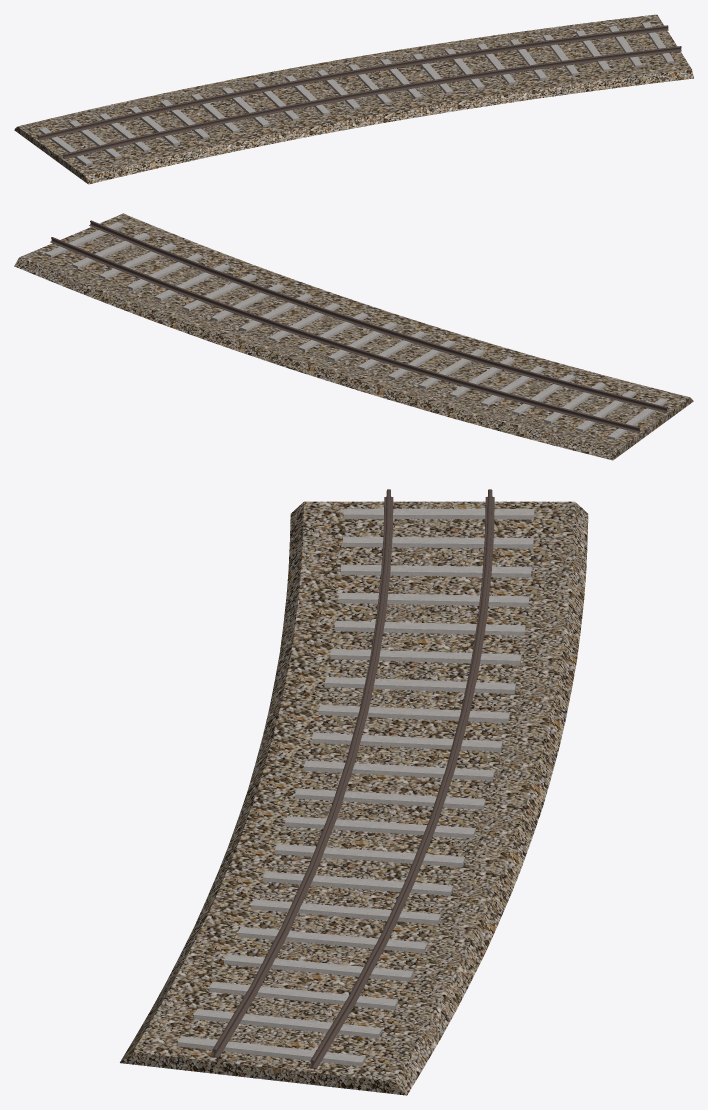
Rendered from sweethome3d-scopia-railroad-curve-20m.glb.
3 views of the same model, one above another, from view 1: azimuth 30°, elevation 25°; view 2: azimuth 150°, elevation 25°; view 3: azimuth 270°, elevation 25° (orthographic). The views are drawn at different scales.
Parts seen in each view (by area): view 1: ballas20m15degres_Plane.009, curve20m15degres_Point.005, traverse20m15degres_Cube.007; view 2: ballas20m15degres_Plane.009, traverse20m15degres_Cube.007, curve20m15degres_Point.005; view 3: ballas20m15degres_Plane.009, traverse20m15degres_Cube.007, curve20m15degres_Point.005.
Part boxes in pixels (x1,y1,x2,y2): ballas20m15degres_Plane.009: [14, 14, 693, 184]; curve20m15degres_Point.005: [37, 25, 681, 159]; traverse20m15degres_Cube.007: [39, 22, 674, 165]; ballas20m15degres_Plane.009: [14, 213, 693, 460]; traverse20m15degres_Cube.007: [45, 222, 667, 439]; curve20m15degres_Point.005: [50, 220, 667, 432]; ballas20m15degres_Plane.009: [120, 501, 588, 1095]; traverse20m15degres_Cube.007: [177, 508, 534, 1066]; curve20m15degres_Point.005: [210, 489, 494, 1068].
Bounding box in the file's own units: 2034 × 39.86 × 693.
Materials: 3 (2 with a texture image).
